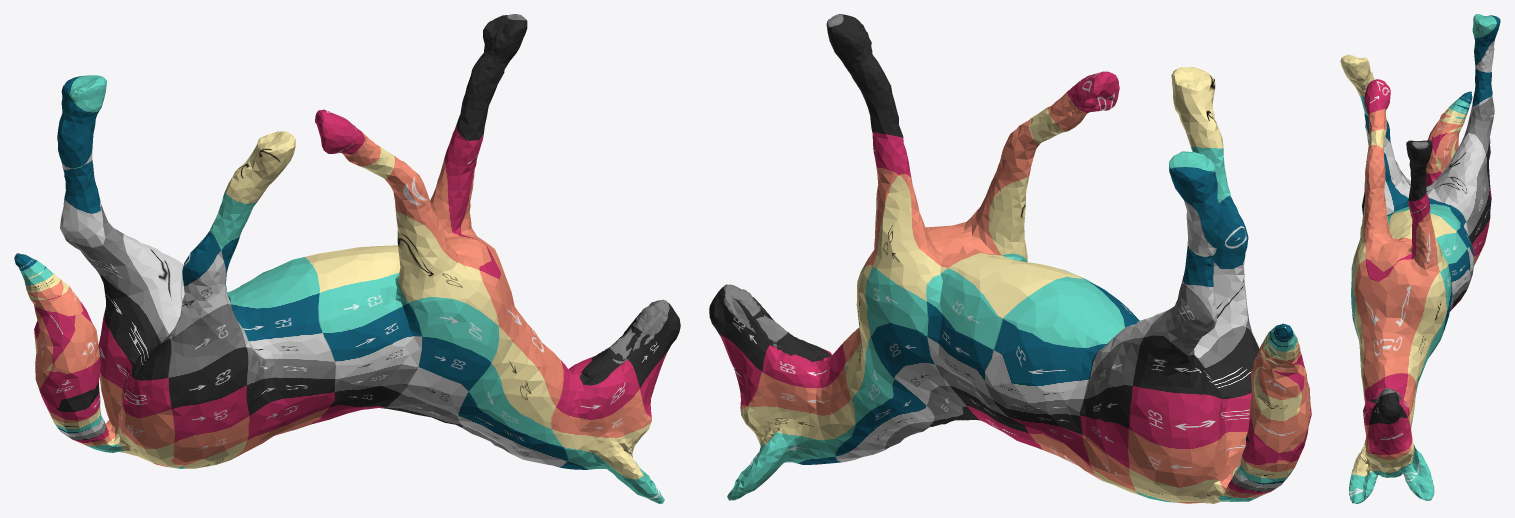
Rendered from hippo_04-horse_06.obj.
3 views of the same model, side by side, from view 1: azimuth 30°, elevation 25°; view 2: azimuth 150°, elevation 25°; view 3: azimuth 270°, elevation 25° (orthographic). The views are drawn at different scales.
Visible parts, largest first — view 1: hippo_04-horse_06_export; view 2: hippo_04-horse_06_export; view 3: hippo_04-horse_06_export.
Boxes of the visible parts, x1,y1,x2,y2 form: hippo_04-horse_06_export: [14, 14, 680, 503]; hippo_04-horse_06_export: [709, 14, 1311, 503]; hippo_04-horse_06_export: [1340, 14, 1500, 503].
Size of the model in its own units: 1.02 by 0.7688 by 0.3394.
